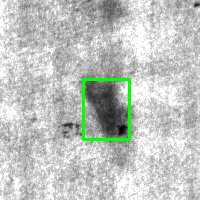patches: (83, 79, 129, 139)
